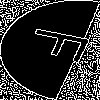F: (24, 25, 100, 68)
